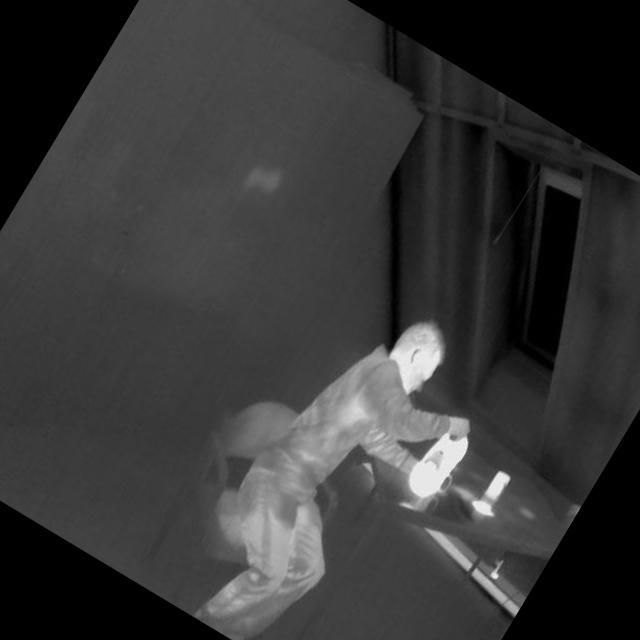person: (151, 263, 512, 640)
